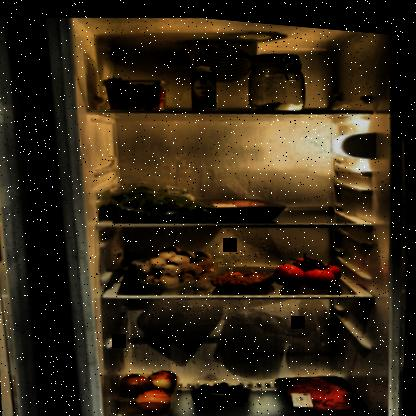blueberries: (196, 370, 253, 409)
ground_beef: (275, 358, 375, 415)
heavy_cream: (189, 58, 224, 110)
mushrooms: (125, 234, 227, 290)
onion: (120, 361, 183, 413)
shrimp: (214, 260, 271, 289)
spinach: (97, 171, 221, 229)
strawberries: (101, 67, 174, 112)
tomato: (271, 242, 350, 290)
